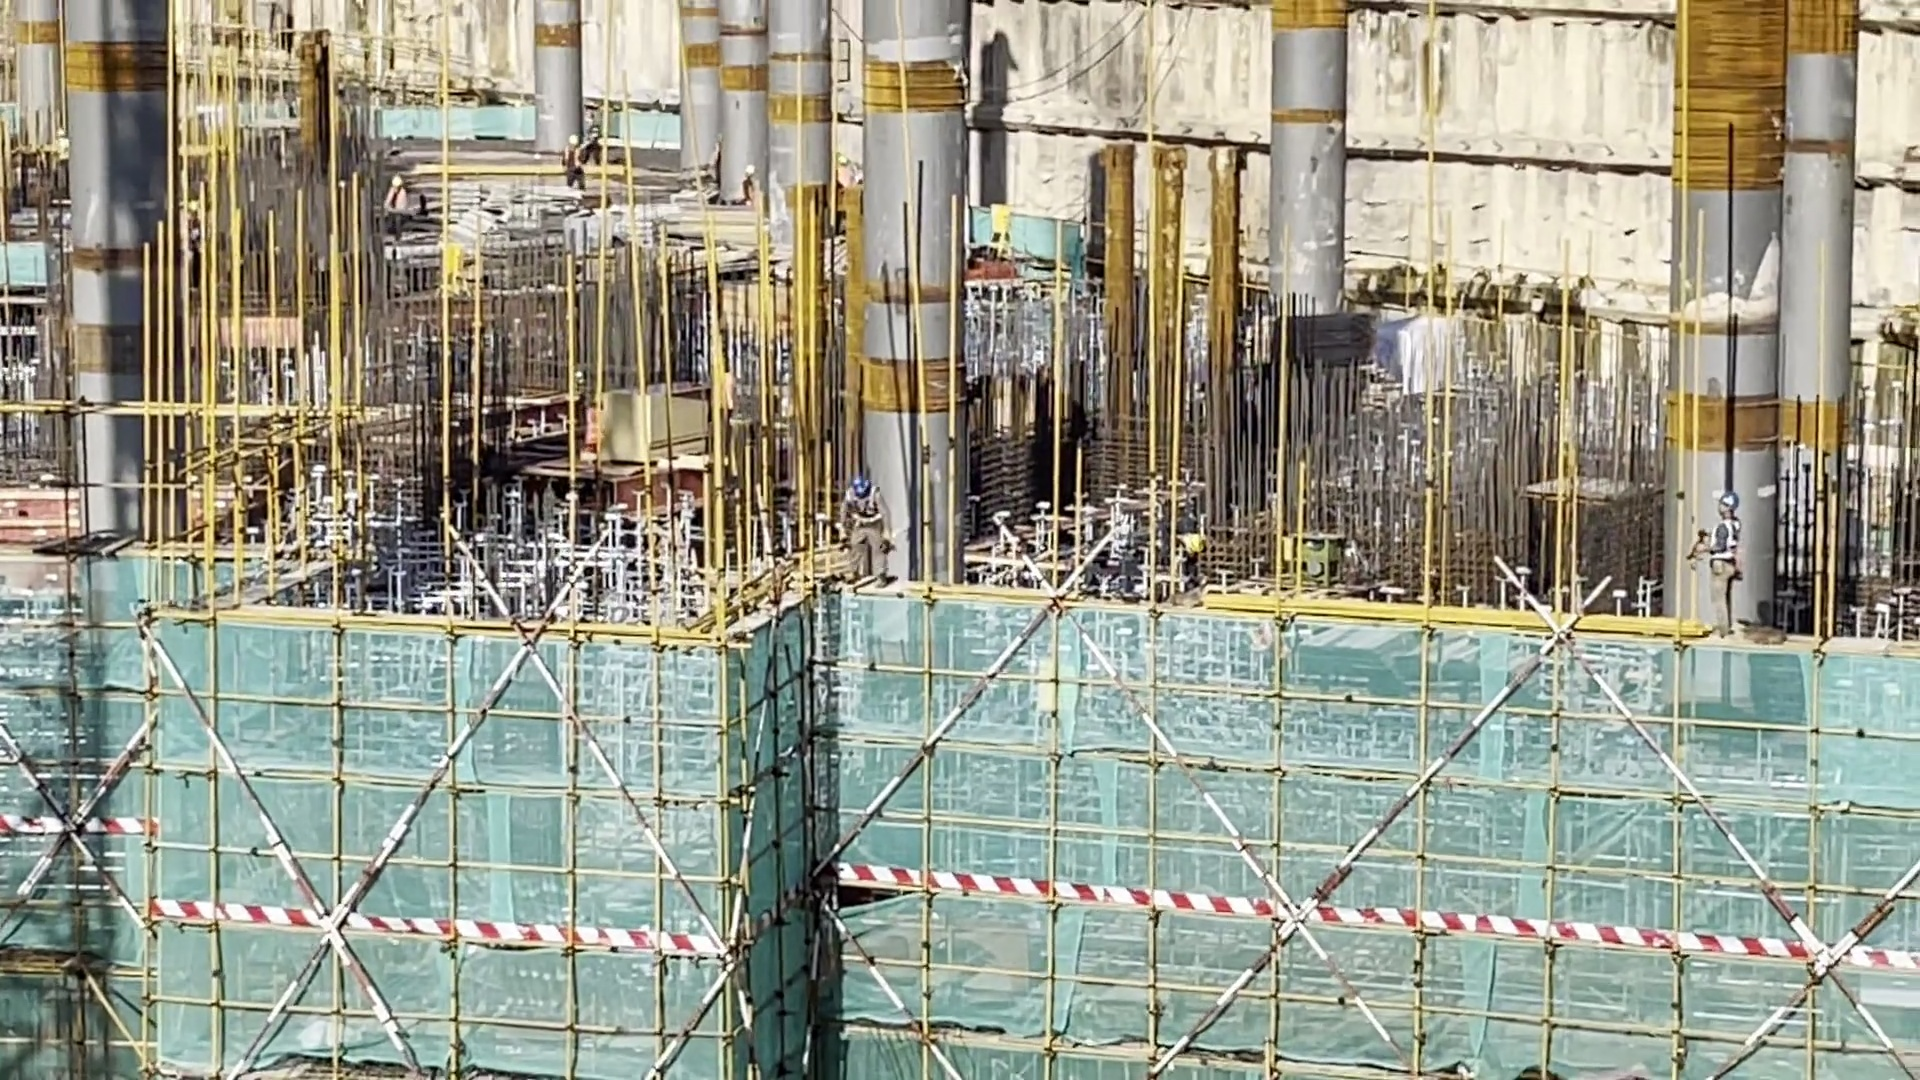helmet: (841, 476, 871, 497), (1718, 496, 1743, 519), (1183, 531, 1209, 544), (388, 177, 406, 189), (739, 170, 757, 181), (55, 126, 68, 139), (571, 132, 580, 145), (587, 398, 605, 405), (584, 113, 594, 123)
person: (1693, 491, 1744, 608), (838, 478, 896, 575), (1154, 530, 1206, 595), (561, 130, 586, 198), (378, 175, 411, 226), (583, 390, 606, 453), (584, 113, 609, 162), (742, 163, 766, 209), (53, 126, 69, 186)
vest: (838, 494, 888, 547), (1704, 519, 1743, 577), (585, 411, 605, 443), (386, 192, 405, 221), (566, 145, 583, 175), (54, 145, 72, 160), (591, 133, 605, 149), (744, 185, 752, 200)
